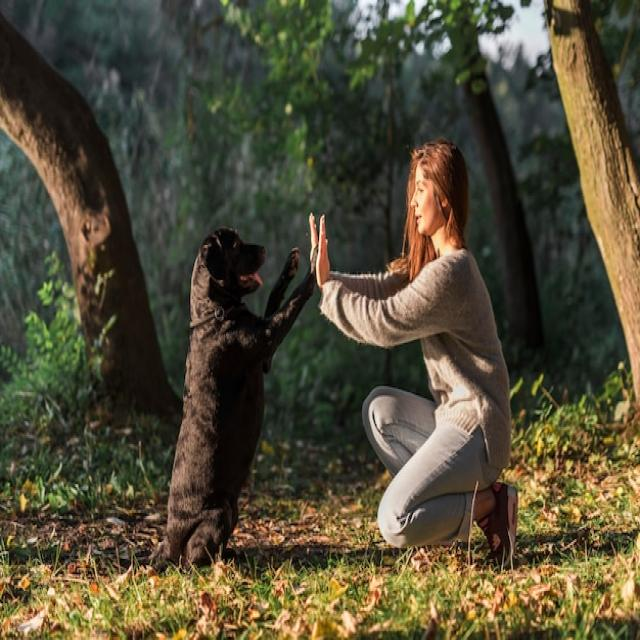Dog: (122, 226, 318, 566)
Person: (309, 138, 520, 562)
